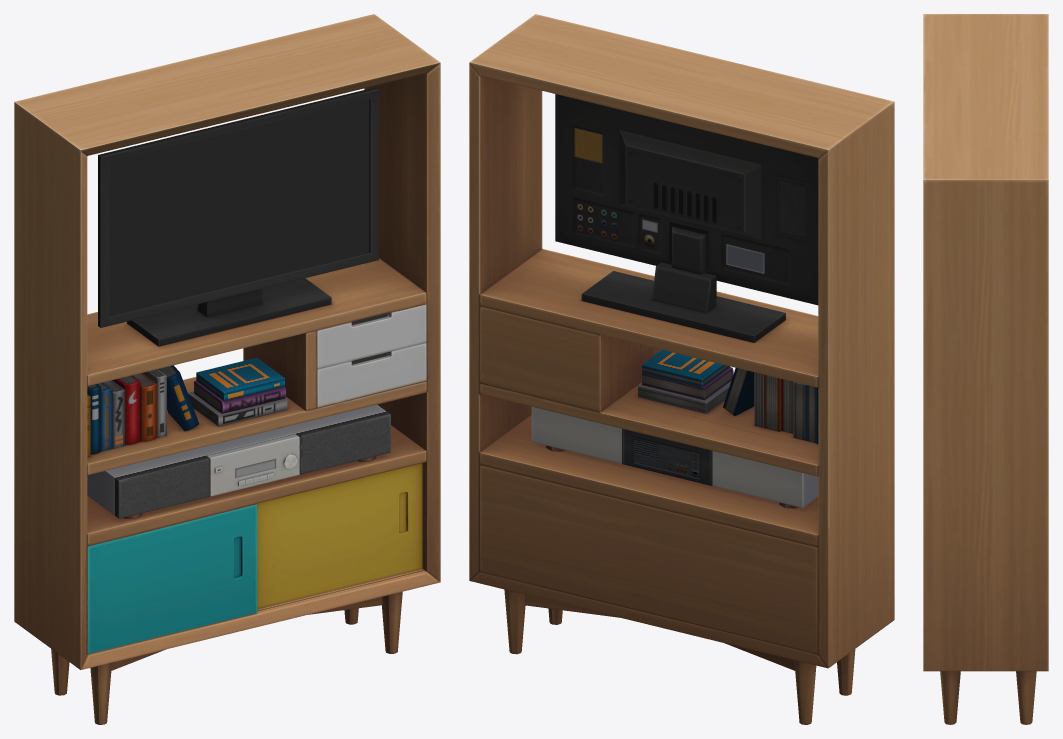
Rendered from tvshelf.glb.
3 views of the same model, side by side, from view 1: azimuth 30°, elevation 25°; view 2: azimuth 150°, elevation 25°; view 3: azimuth 270°, elevation 25° (orthographic). The views are drawn at different scales.
Visible parts, largest first — view 1: TinyLiving_MediaMarathoner, s4studio_mesh_3; view 2: TinyLiving_MediaMarathoner; view 3: TinyLiving_MediaMarathoner.
Boxes of the visible parts, left/top/right/bottom form: TinyLiving_MediaMarathoner: left=14, top=14, right=440, bottom=724; s4studio_mesh_3: left=109, top=100, right=369, bottom=315; TinyLiving_MediaMarathoner: left=469, top=14, right=894, bottom=724; TinyLiving_MediaMarathoner: left=923, top=14, right=1048, bottom=724.
Size of the model in its own units: 1.33 by 2.09 by 0.425.
2 materials, 1 textured.
